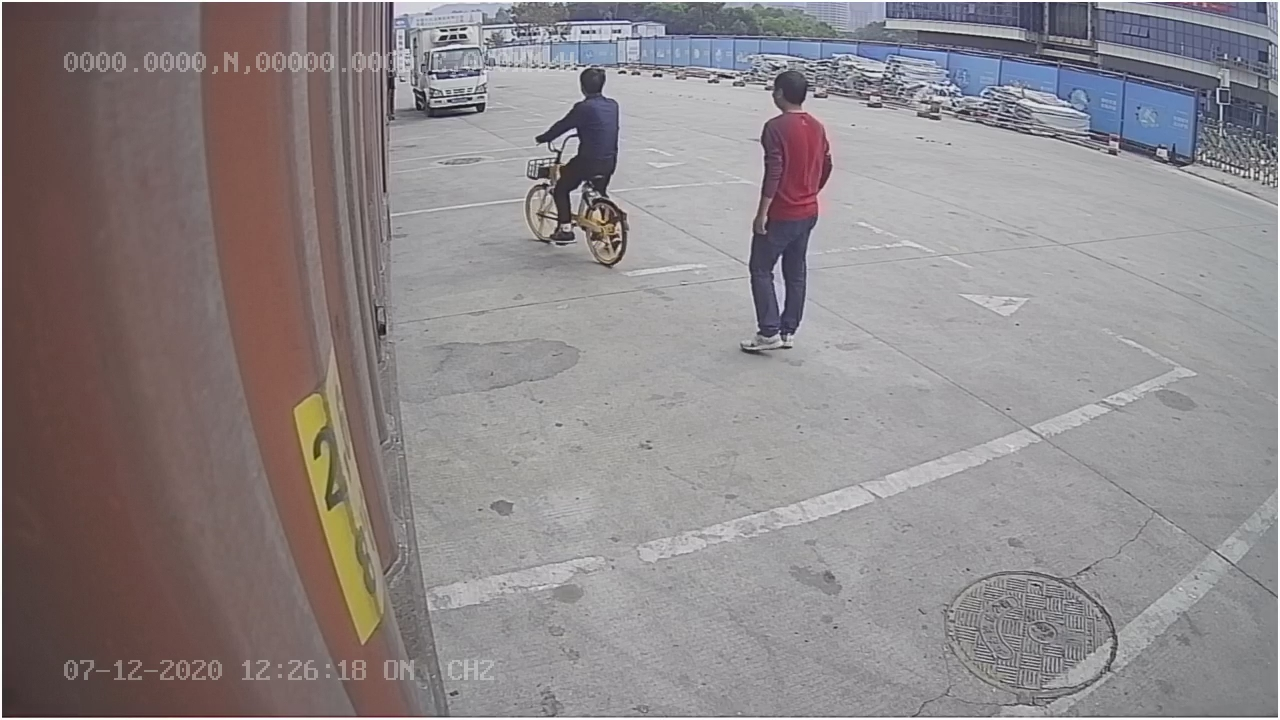person: (729, 62, 842, 360)
